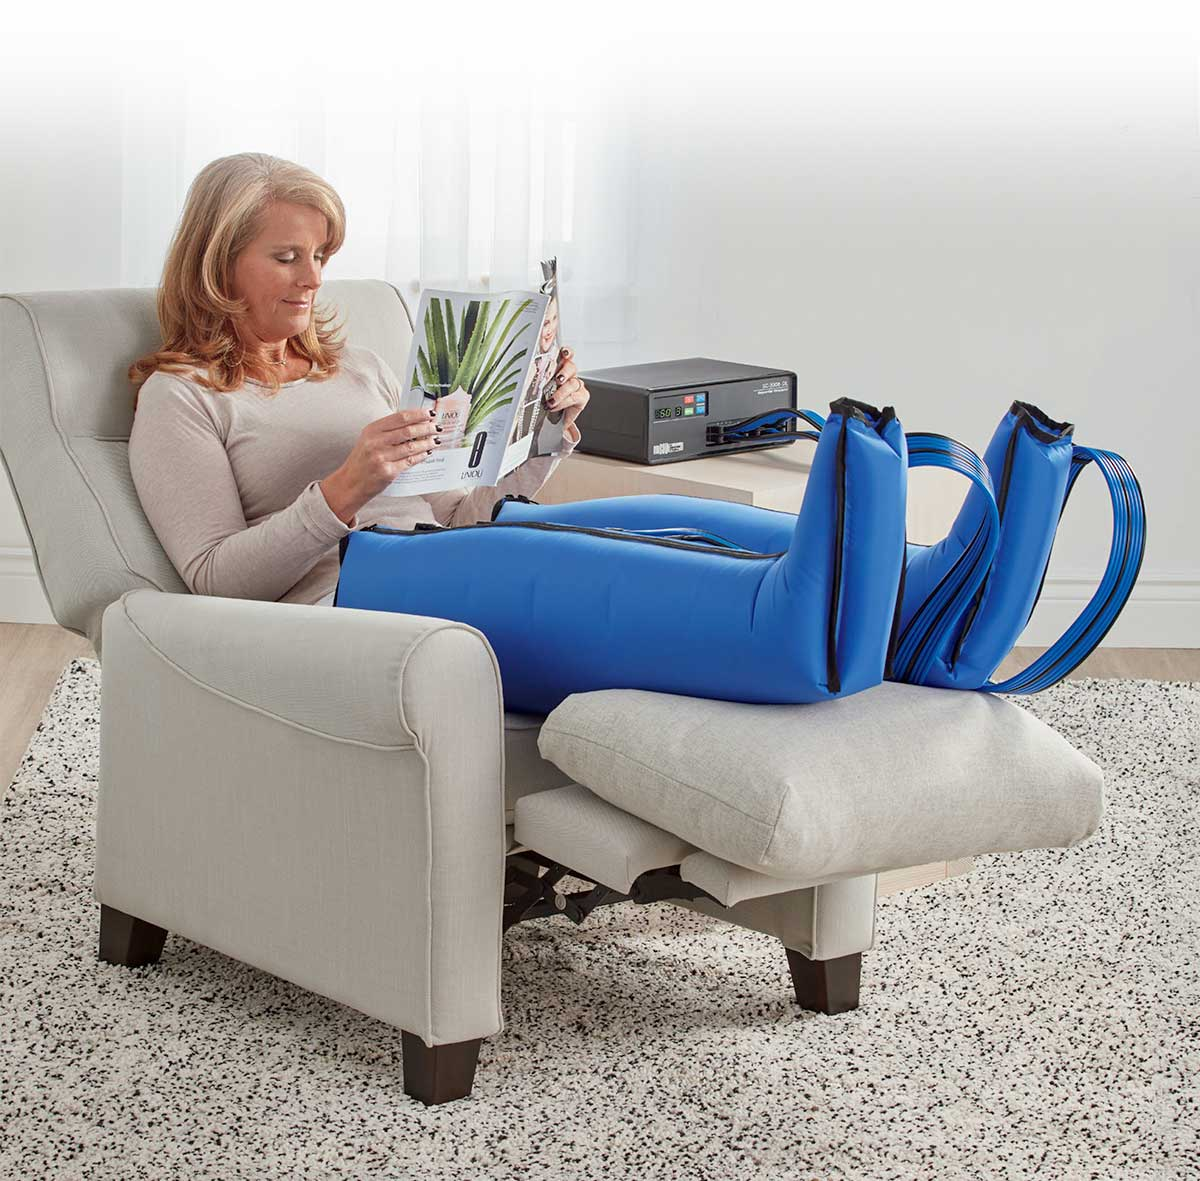patient: (128, 153, 1074, 703)
sequential_compression: (331, 358, 1151, 706)
sofa: (1, 279, 1104, 1104)
